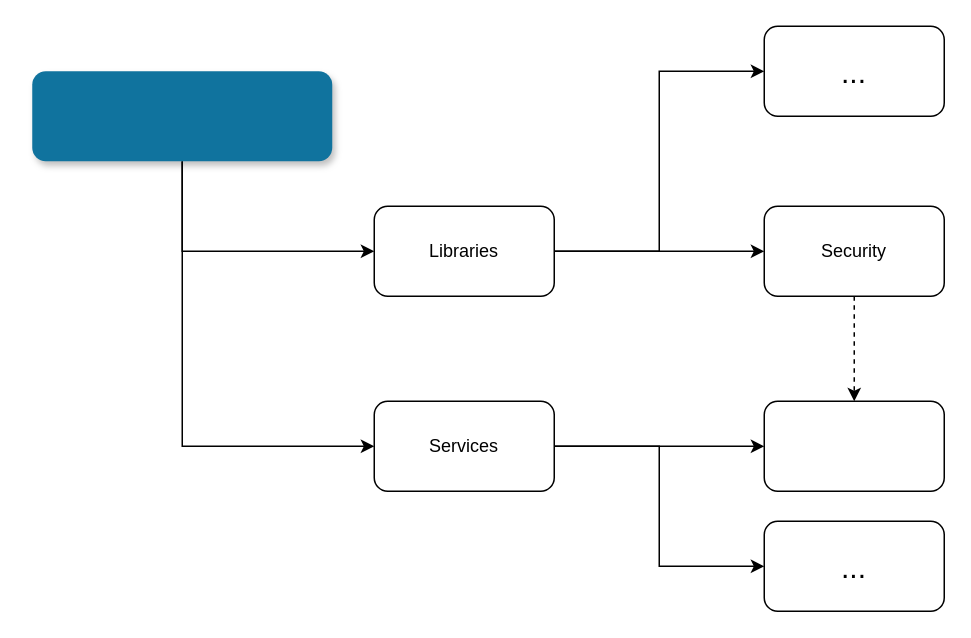
Some shapes in this 971 by 638 pixel diagram are drawn without their labels. Here are the shapes that lost their labels. From the top down, the centre of each, then its label:
At [183,117]: "Carnow Microservice Root".
At [853,445]: "Inventory".
